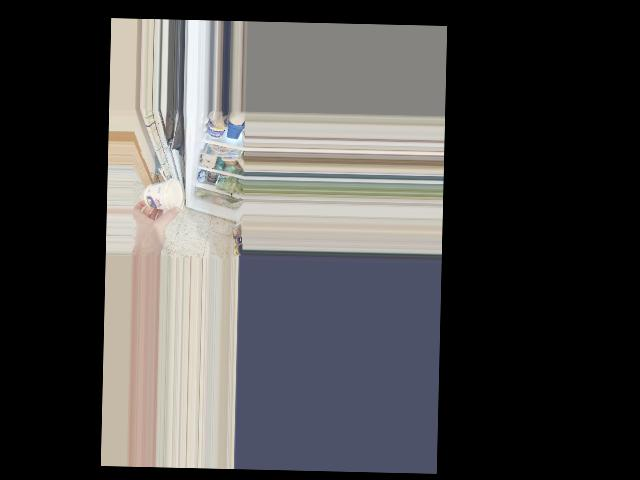cotage: (144, 180, 183, 212)
